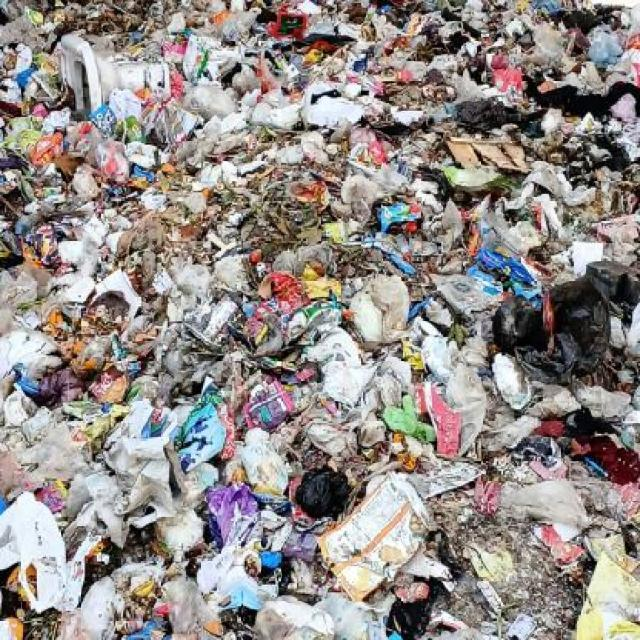garbage: (2, 3, 640, 640)
